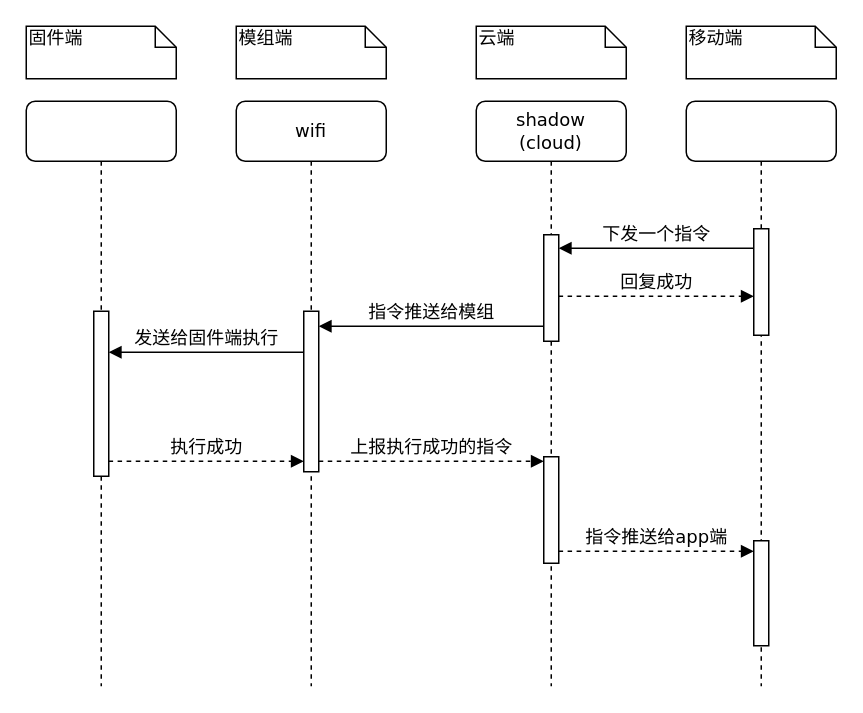
Image size: 863x713. Some labels were removed from this diagram. The box of each missing label's shape, as (x1, y1, x2, y2) in pixels:
app: (685, 100, 836, 686)
mcu: (25, 100, 176, 686)
